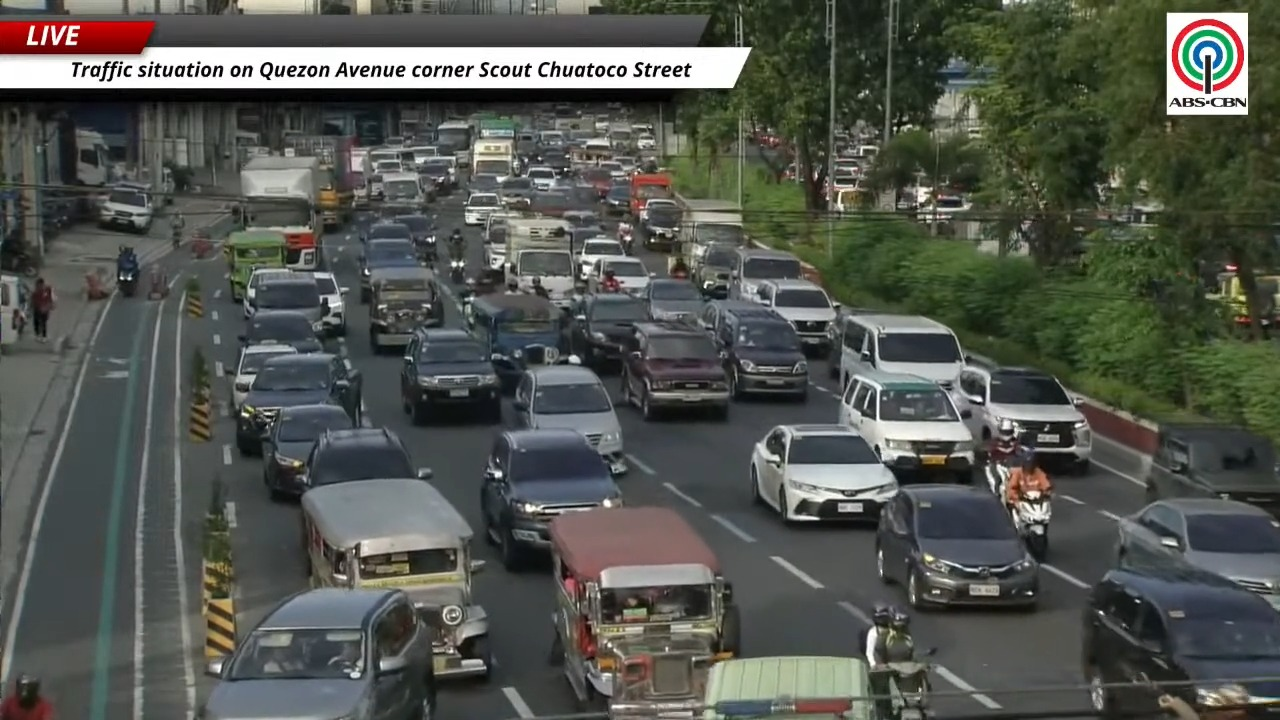bus: (435, 120, 473, 167), (478, 118, 517, 139)
car: (197, 588, 436, 719), (1081, 566, 1279, 717), (875, 484, 1038, 608), (480, 429, 621, 571), (1116, 498, 1279, 606), (952, 362, 1091, 473), (838, 372, 974, 482), (750, 425, 897, 522), (511, 364, 627, 475), (235, 353, 361, 455), (1144, 423, 1279, 516), (620, 321, 730, 420), (829, 312, 964, 389), (709, 301, 808, 401), (401, 327, 501, 423), (263, 403, 354, 499), (305, 427, 432, 487), (757, 279, 838, 354), (568, 293, 647, 367), (252, 272, 330, 336), (232, 343, 297, 409), (359, 238, 421, 303), (729, 247, 802, 300), (239, 310, 322, 352), (640, 278, 704, 320), (98, 186, 154, 233), (691, 242, 736, 299), (242, 268, 292, 318), (586, 255, 652, 292), (312, 272, 347, 336), (639, 198, 682, 249), (575, 236, 625, 276), (383, 171, 434, 209), (392, 213, 437, 253), (530, 186, 573, 217), (463, 191, 500, 224), (418, 160, 452, 194), (562, 210, 606, 236), (361, 220, 412, 242), (499, 176, 534, 207), (602, 184, 630, 215), (525, 165, 556, 189), (467, 173, 499, 193), (598, 161, 628, 178), (613, 156, 637, 173), (637, 134, 656, 150)
motorcycle: (1011, 490, 1051, 561), (887, 659, 931, 719), (0, 245, 37, 277), (983, 462, 1010, 498), (117, 267, 138, 296), (617, 222, 633, 254), (450, 259, 465, 284), (171, 228, 182, 249)
truck: (236, 155, 322, 270), (283, 135, 354, 229), (505, 217, 575, 307), (680, 198, 748, 266), (629, 173, 672, 220), (471, 138, 516, 181), (349, 146, 371, 208)
